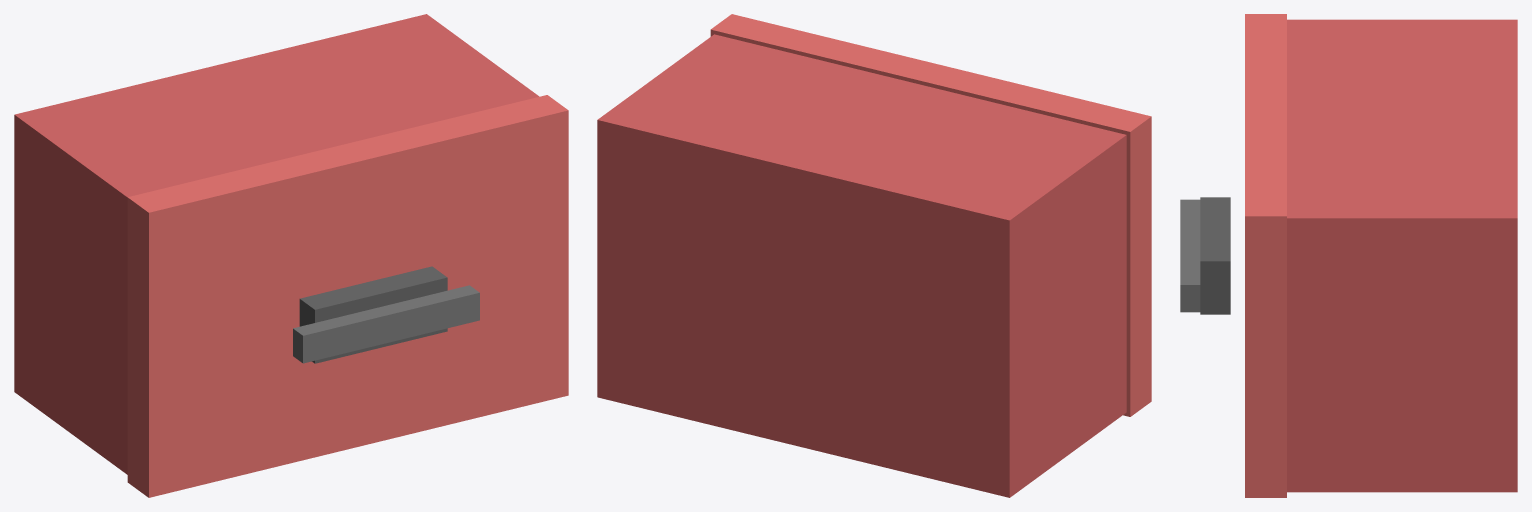
Rendered from medkit.glb.
The picture shows the model from 3 angles, left to right: view 1: azimuth 30°, elevation 25°; view 2: azimuth 150°, elevation 25°; view 3: azimuth 270°, elevation 25°; orthographic projection.
Visible parts, largest first — view 1: medkit_1, medkit_0, medkit_5, medkit_4; view 2: medkit_0, medkit_1; view 3: medkit_0, medkit_1, medkit_4, medkit_5.
Boxes of the visible parts, x1,y1,x2,y2 form: medkit_1: (127, 95, 568, 497); medkit_0: (14, 14, 539, 474); medkit_5: (293, 285, 479, 363); medkit_4: (299, 266, 447, 363); medkit_0: (597, 34, 1126, 497); medkit_1: (710, 14, 1151, 416); medkit_0: (1287, 19, 1517, 492); medkit_1: (1245, 14, 1286, 497); medkit_4: (1200, 197, 1230, 314); medkit_5: (1180, 199, 1200, 312).
Size of the model in its own units: 0.285 by 0.1945 by 0.201.
